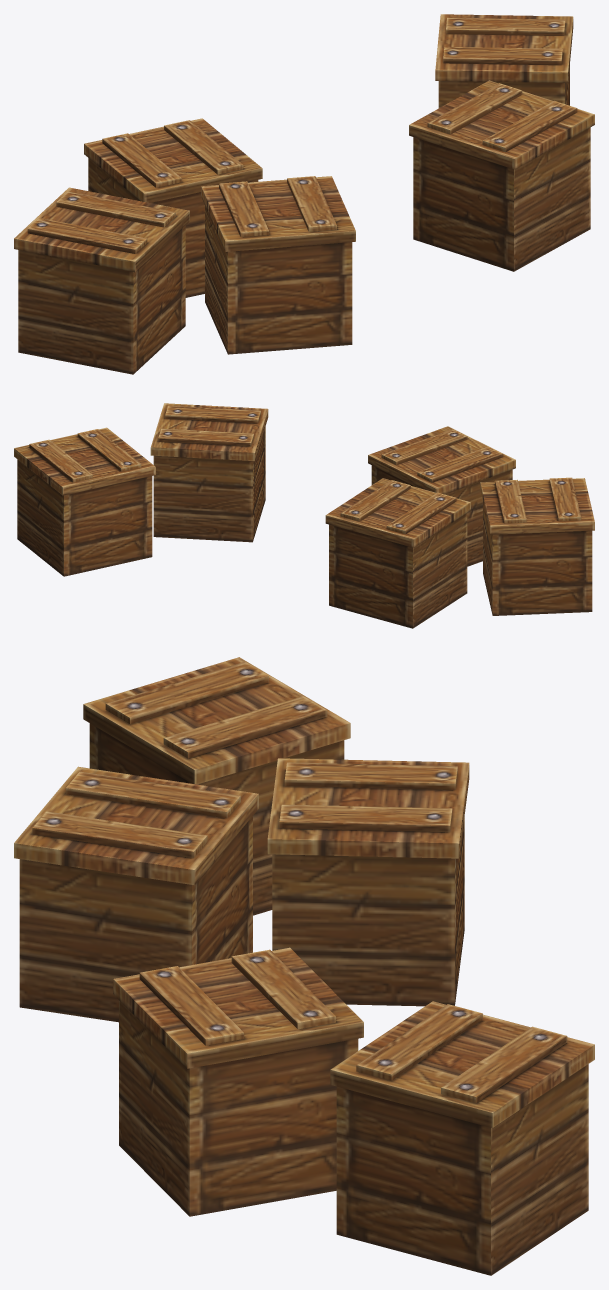
The model's file is yanshi6_wujian2_1.fbx.
The picture shows the model from 3 angles, top to bottom: view 1: azimuth 30°, elevation 25°; view 2: azimuth 150°, elevation 25°; view 3: azimuth 270°, elevation 25°; orthographic projection. The views are drawn at different scales.
Parts seen in each view (by area): view 1: yanshi6_wujian2_1; view 2: yanshi6_wujian2_1; view 3: yanshi6_wujian2_1.
Boxes of the visible parts, left/top/right/bottom form: yanshi6_wujian2_1: left=14, top=14, right=594, bottom=374; yanshi6_wujian2_1: left=14, top=403, right=594, bottom=628; yanshi6_wujian2_1: left=14, top=657, right=594, bottom=1275.
Bounding box in the file's own units: 515 × 90.48 × 277.
